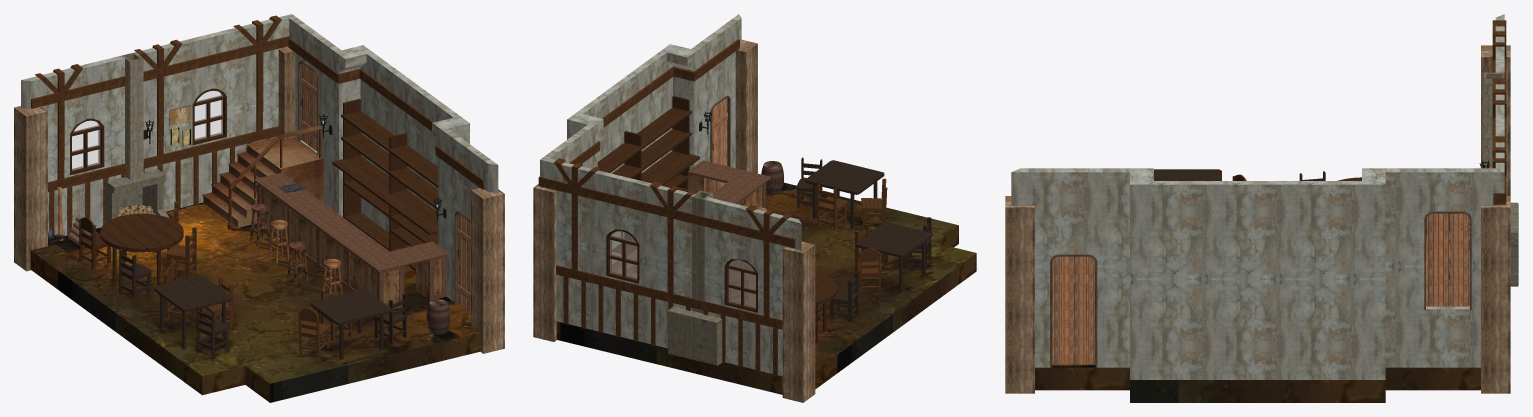
File: baked-tavern.glb
3 renders of one model, left to right at view 1: azimuth 30°, elevation 25°; view 2: azimuth 150°, elevation 25°; view 3: azimuth 270°, elevation 25°, orthographic. The views are drawn at different scales.
Visible parts, largest first — view 1: Piso_Surface - Matte_0.001, object 23, object 14, Pilar (1)_Cherry_0.001, Prateleiras_Estante Pintura - Esmalte com brilho (Verde)_0.0, Cadeira 1_Stainless Steel - Satin_0.001, Escada_Pine_0.001, object 29, object 15, Cadeira 3_Mesa redonda Mogno_0.001, Porta da Escada_Gemstone - Sapphire_0.001, object 16 (+11 smaller); view 2: object 23, Piso_Surface - Matte_0.001, object 14, Pilar (1)_Cherry_0.001, Prateleiras_Estante Pintura - Esmalte com brilho (Verde)_0.0, Cadeira 1_Stainless Steel - Satin_0.001, object 21, Janela (1)_Gemstone - Ruby_0.001, Vidro (1)_Glass (Clear)_0.001, object 29, Cadeira 3_Stainless Steel - Brushed Linear Long_0.001, Cadeira 1_Paint - Enamel Glossy (Red)_0.001 (+6 smaller); view 3: object 23, Pilar (1)_Cherry_0.001, Piso_Surface - Matte_0.001, Porta da Escada_Gemstone - Sapphire_0.001, object 14, Porta da Escada (1)_Gemstone - Diamond_0.001, object 21, Cadeira 1_Stainless Steel - Satin_0.001, object 16.
Boxes of the visible parts, box(x1,y1,x2,y2) form: Piso_Surface - Matte_0.001: box(30, 202, 480, 402); object 23: box(21, 14, 498, 302); object 14: box(31, 15, 484, 235); Pilar (1)_Cherry_0.001: box(14, 47, 504, 353); Prateleiras_Estante Pintura - Esmalte com brilho (Verde)_0.0: box(332, 98, 438, 270); Cadeira 1_Stainless Steel - Satin_0.001: box(153, 275, 406, 359); Escada_Pine_0.001: box(202, 125, 323, 229); object 29: box(254, 172, 448, 272); object 15: box(260, 187, 441, 305); Cadeira 3_Mesa redonda Mogno_0.001: box(79, 213, 183, 283); Porta da Escada_Gemstone - Sapphire_0.001: box(301, 63, 470, 312); object 16: box(125, 55, 143, 180); object 23: box(540, 14, 801, 376); Piso_Surface - Matte_0.001: box(556, 182, 976, 394); object 14: box(538, 39, 795, 375); Pilar (1)_Cherry_0.001: box(533, 39, 815, 402); Prateleiras_Estante Pintura - Esmalte com brilho (Verde)_0.0: box(597, 96, 699, 255); Cadeira 1_Stainless Steel - Satin_0.001: box(796, 157, 932, 290); object 21: box(668, 190, 722, 365); Janela (1)_Gemstone - Ruby_0.001: box(606, 229, 757, 312); Vidro (1)_Glass (Clear)_0.001: box(610, 231, 755, 308); object 29: box(627, 160, 771, 262); Cadeira 3_Stainless Steel - Brushed Linear Long_0.001: box(857, 178, 887, 293); Cadeira 1_Paint - Enamel Glossy (Red)_0.001: box(817, 184, 885, 276); object 23: box(1011, 14, 1504, 379); Pilar (1)_Cherry_0.001: box(1005, 45, 1510, 393); Piso_Surface - Matte_0.001: box(1035, 213, 1480, 402); Porta da Escada_Gemstone - Sapphire_0.001: box(1052, 213, 1469, 364); object 14: box(1492, 20, 1506, 204); Porta da Escada (1)_Gemstone - Diamond_0.001: box(1050, 211, 1471, 368); object 21: box(1449, 72, 1518, 286); Cadeira 1_Stainless Steel - Satin_0.001: box(1051, 169, 1221, 311); object 16: box(1483, 72, 1492, 168).
Bounding box in the file's own units: 6.55 × 3.89 × 8.2.
37 materials, 36 textured.
